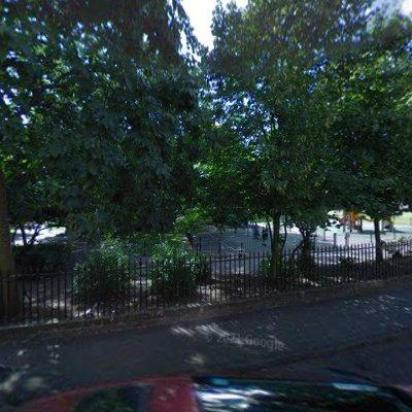moving-car: (0, 369, 410, 411)
